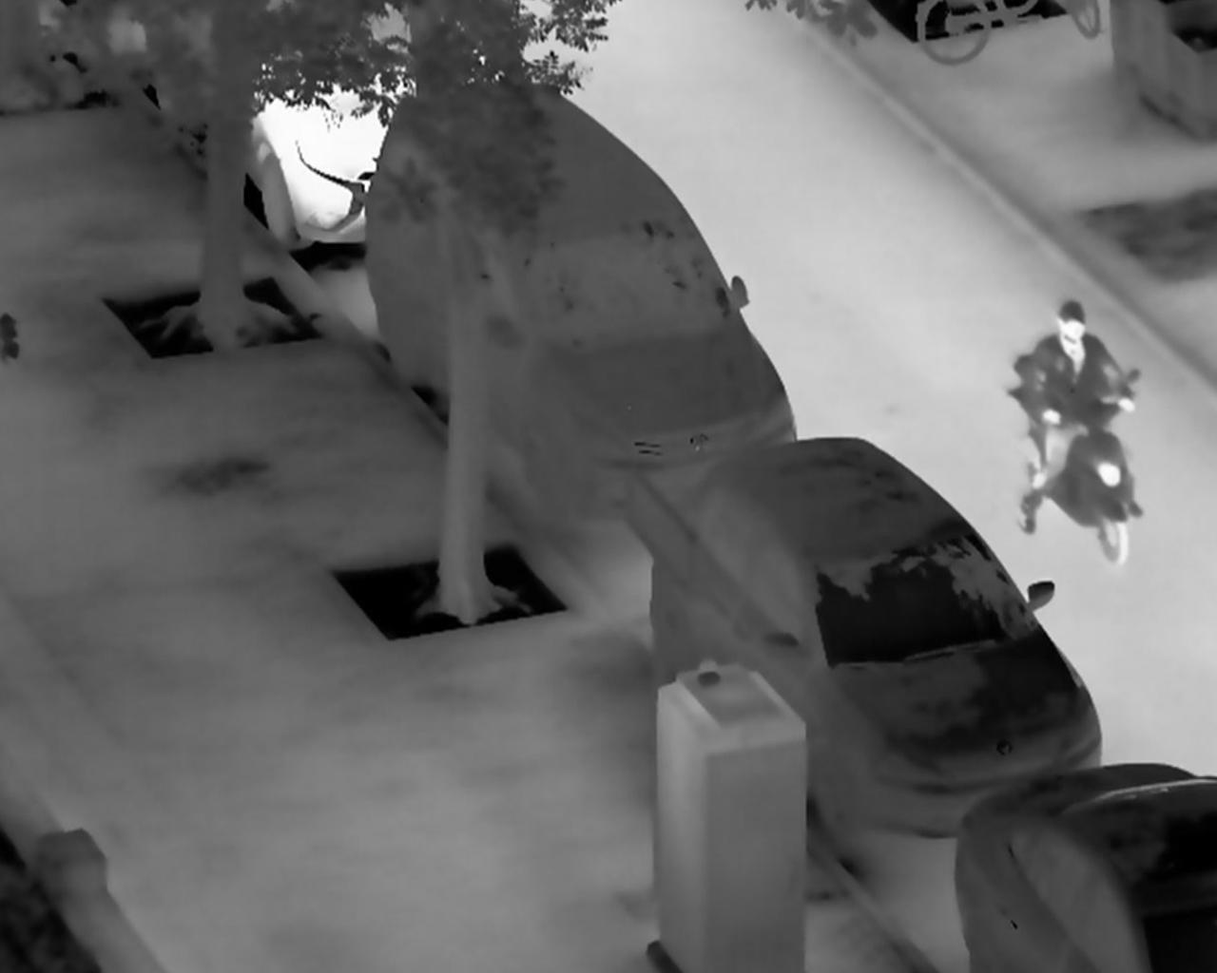person: (1013, 298, 1139, 538)
